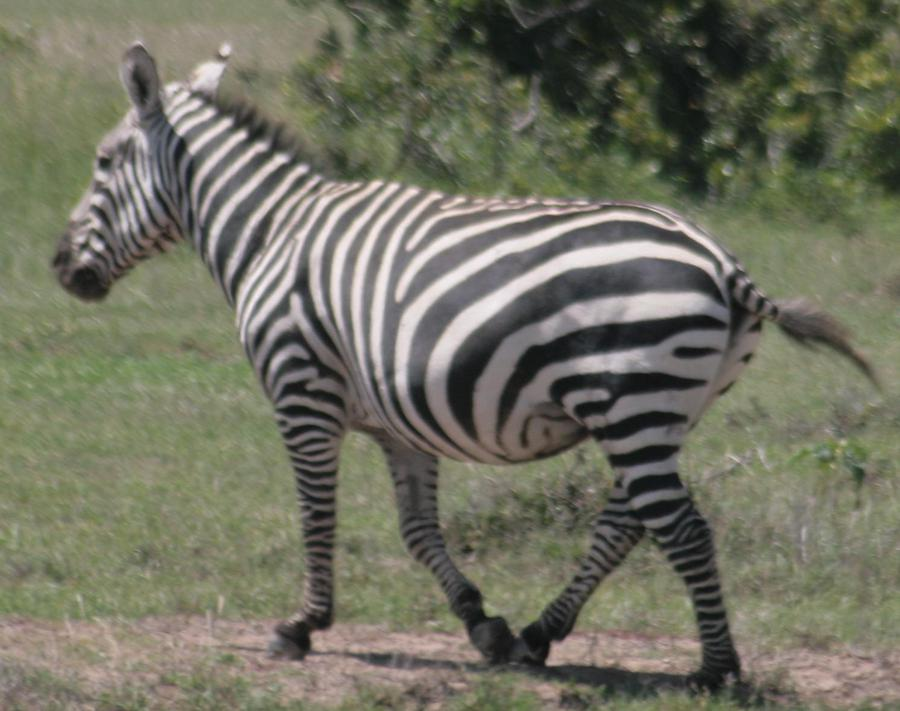zebra_plains: (230, 142, 725, 496)
